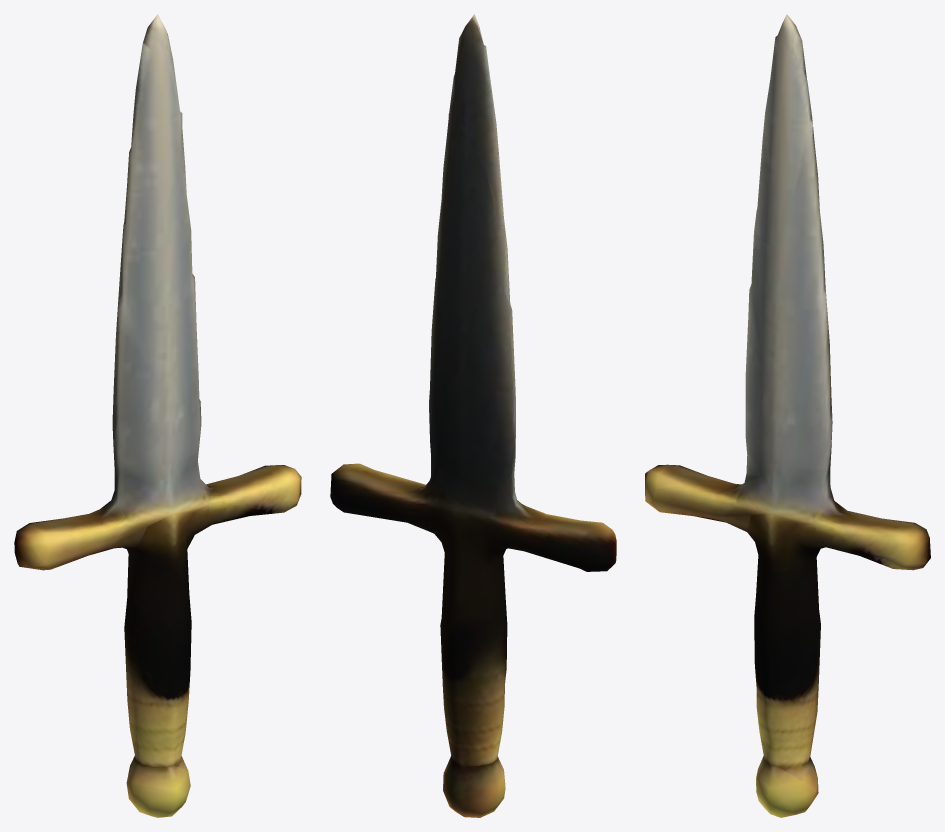
File: Dagger_2.glb
3 renders of one model, left to right at view 1: azimuth 30°, elevation 25°; view 2: azimuth 150°, elevation 25°; view 3: azimuth 330°, elevation 25°, orthographic.
Visible parts, largest first — view 1: dagger_low.001; view 2: dagger_low.001; view 3: dagger_low.001.
Boxes of the visible parts, x1,y1,x2,y2 form: dagger_low.001: (14, 14, 301, 817); dagger_low.001: (330, 14, 616, 817); dagger_low.001: (645, 14, 930, 817).
Size of the model in its own units: 0.4154 by 1.12 by 0.0941.
1 material, 1 textured.
